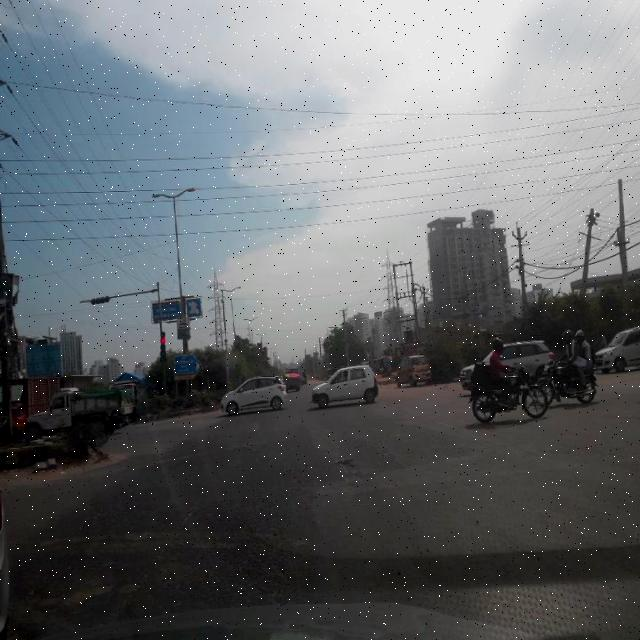D00: (111, 460, 220, 620)
D20: (34, 412, 444, 618)
